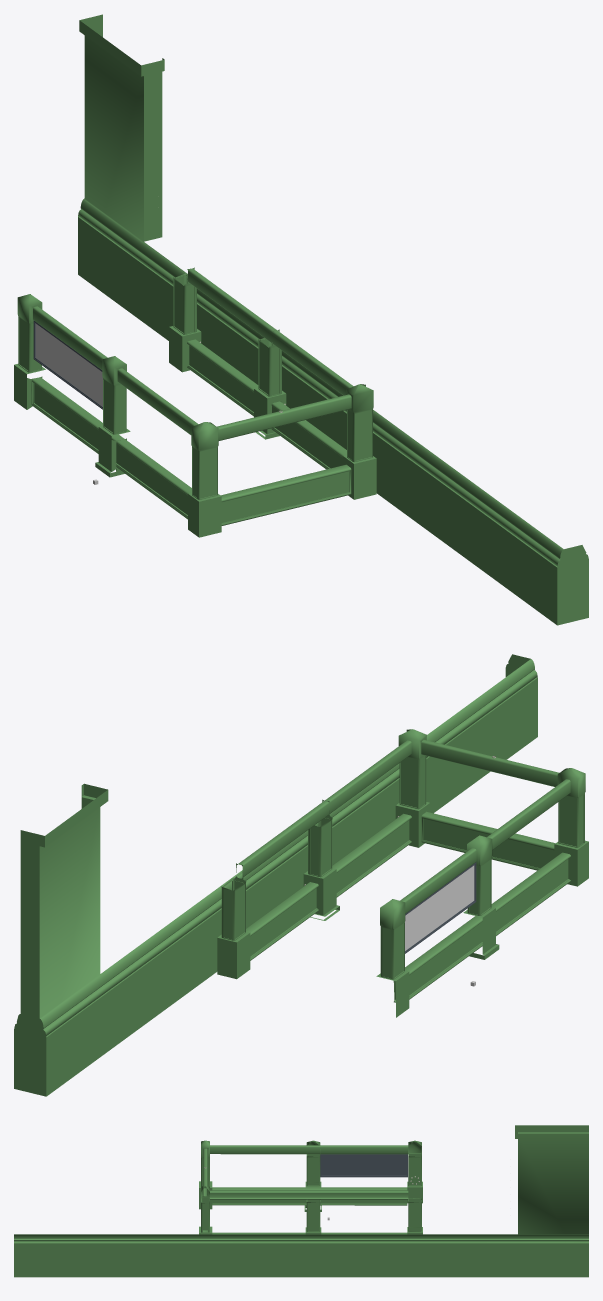
The model's file is Ecleposs Subway.fbx.
3 views of the same model, one above another, from view 1: azimuth 30°, elevation 25°; view 2: azimuth 150°, elevation 25°; view 3: azimuth 270°, elevation 25° (orthographic). The views are drawn at different scales.
Parts seen in each view (by area): view 1: Plane_1; view 2: Plane_1; view 3: Plane_1.
Part boxes in pixels (bbox=[...]): Plane_1: bbox=[14, 14, 588, 625]; Plane_1: bbox=[14, 654, 588, 1096]; Plane_1: bbox=[14, 1125, 588, 1277].
Bounding box in the file's own units: 14595 × 15072 × 51205.
